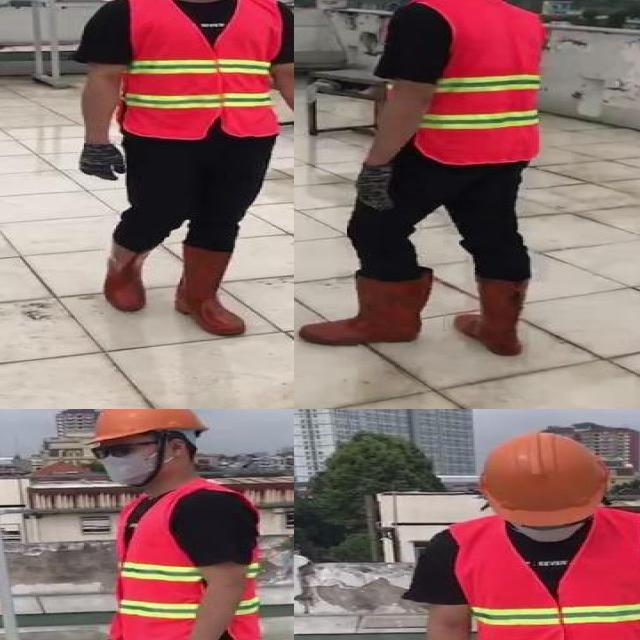boots: (304, 273, 434, 344), (173, 242, 247, 338), (454, 278, 532, 355), (100, 233, 153, 314)
face_mask: (91, 440, 157, 484)
glasses: (85, 440, 142, 460)
hand_glove: (351, 165, 396, 213), (77, 142, 127, 181)
head_helmet: (476, 432, 609, 518), (91, 409, 208, 441)
person: (300, 0, 549, 357), (65, 0, 294, 344), (402, 433, 640, 640), (70, 409, 271, 640)
vest: (109, 486, 269, 640), (452, 509, 640, 640), (117, 0, 281, 139), (409, 0, 544, 164)
